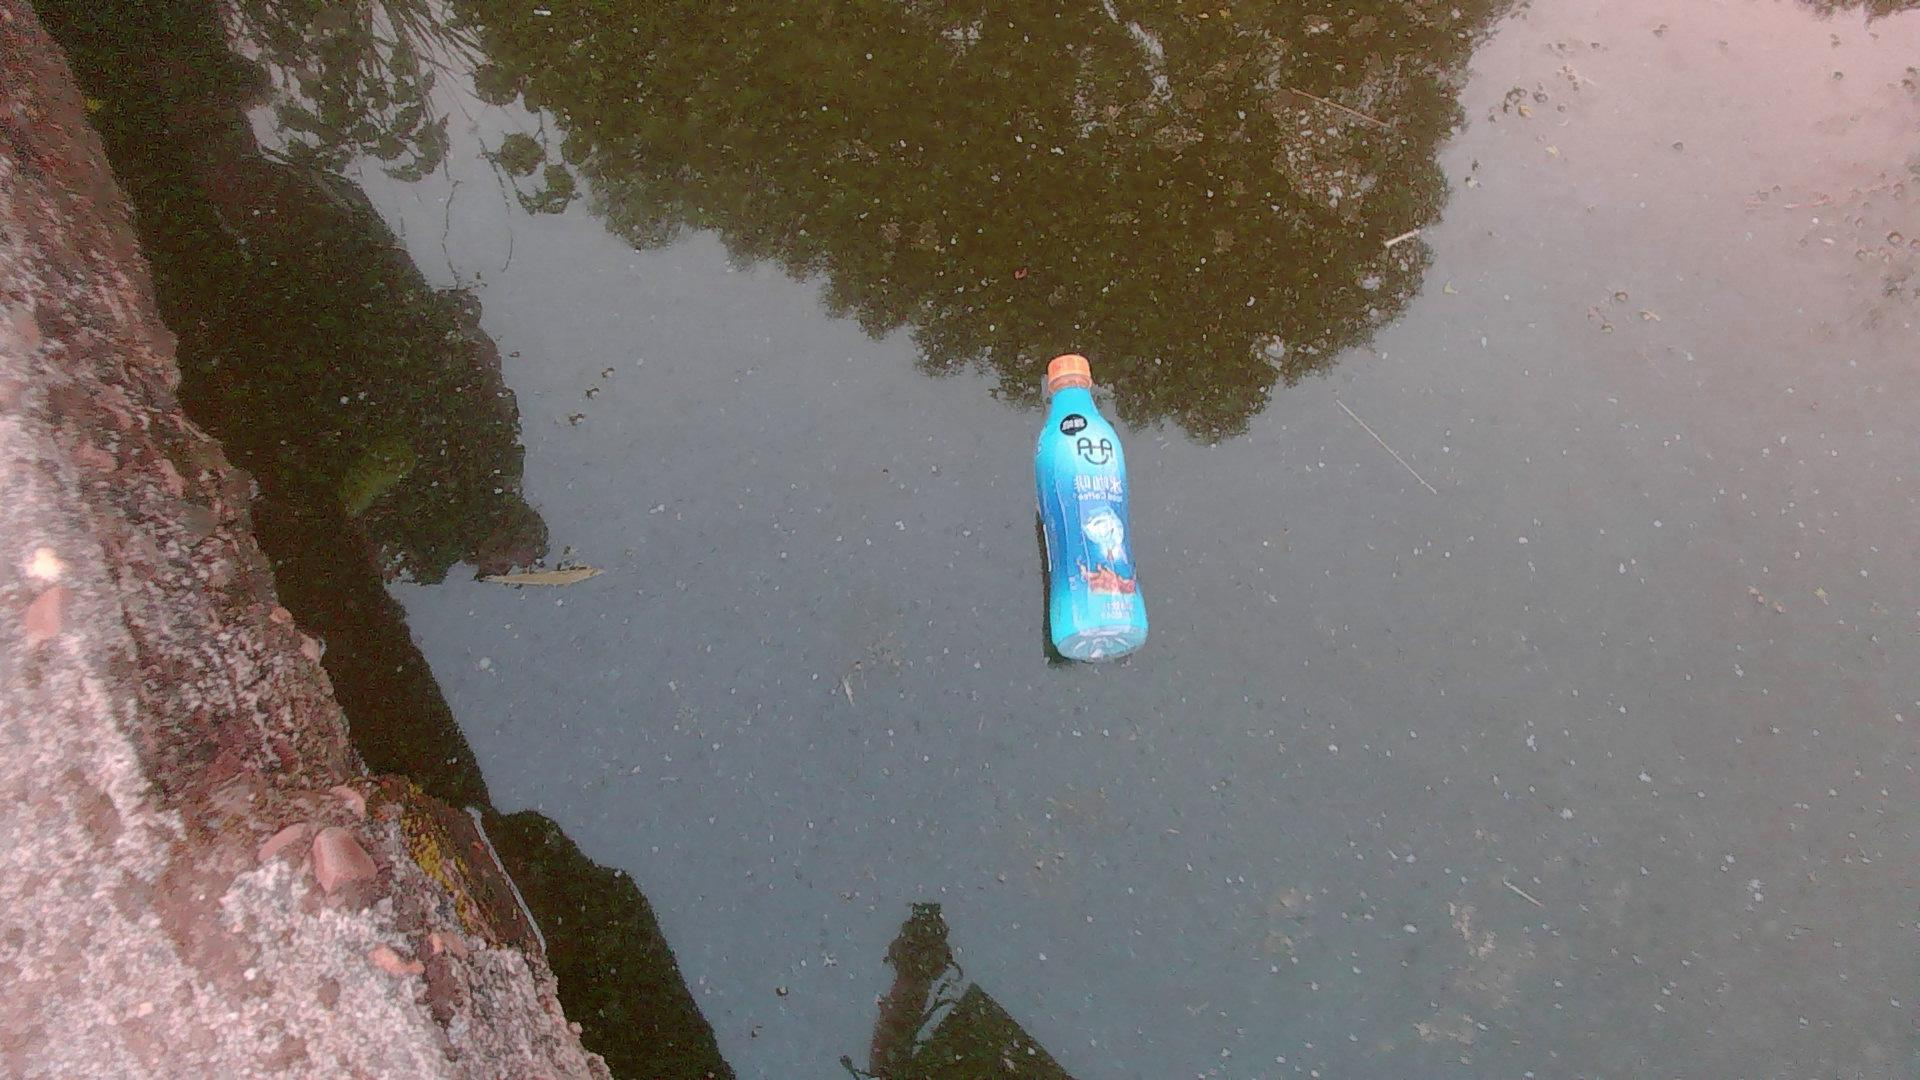Plastic: (1029, 343, 1156, 669)
